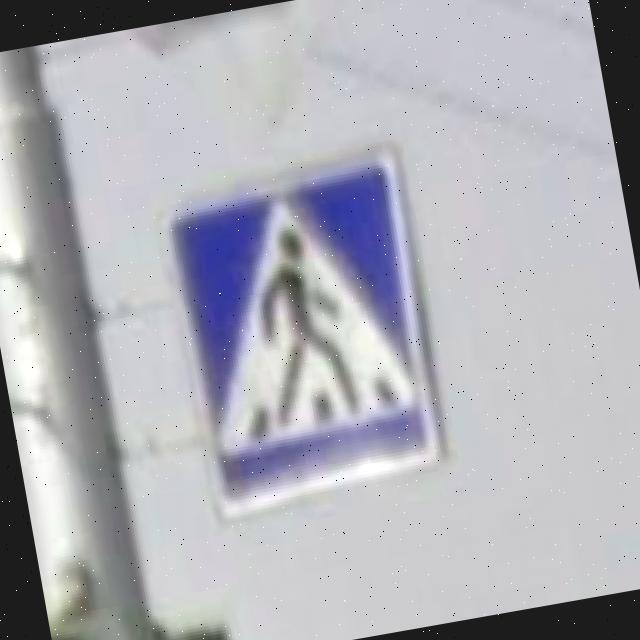Przejscie dla pieszych: (150, 142, 452, 528)
